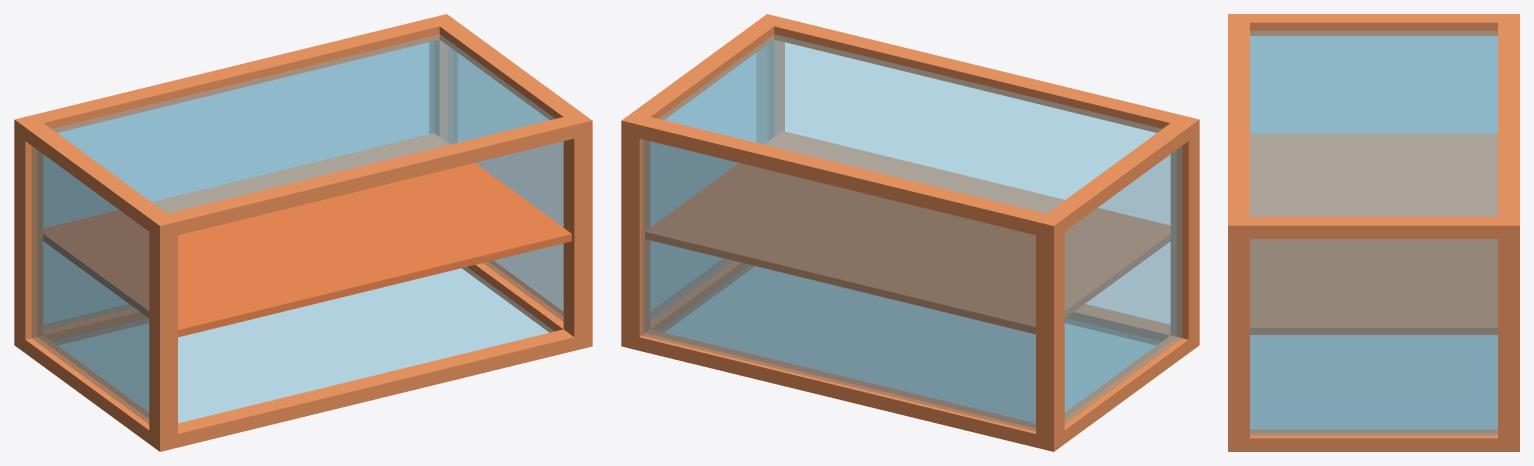
Rendered from PW_display_cube.fbx.
3 renders of one model, left to right at view 1: azimuth 30°, elevation 25°; view 2: azimuth 150°, elevation 25°; view 3: azimuth 270°, elevation 25°, orthographic.
Visible parts, largest first — view 1: frame, glass; view 2: glass, frame; view 3: glass, frame.
Boxes of the visible parts, <box> form: frame: <box>14,14,592,451</box>; glass: <box>32,34,563,423</box>; glass: <box>642,34,1181,431</box>; frame: <box>621,14,1199,451</box>; glass: <box>1250,31,1497,435</box>; frame: <box>1228,14,1519,451</box>.
Bounding box in the file's own units: 120 × 60.34 × 70.03.
2 materials, 1 textured.
